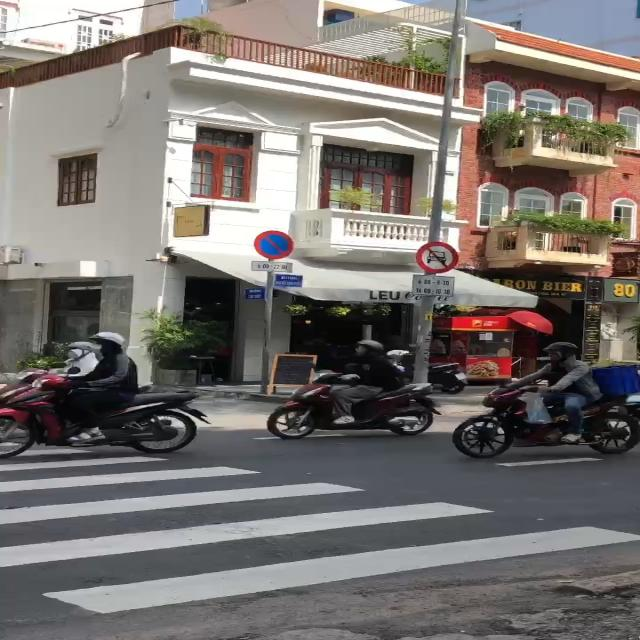Bien bao cam do xe: (253, 229, 301, 260)
Bien bao cam xe oto: (414, 237, 463, 276)
